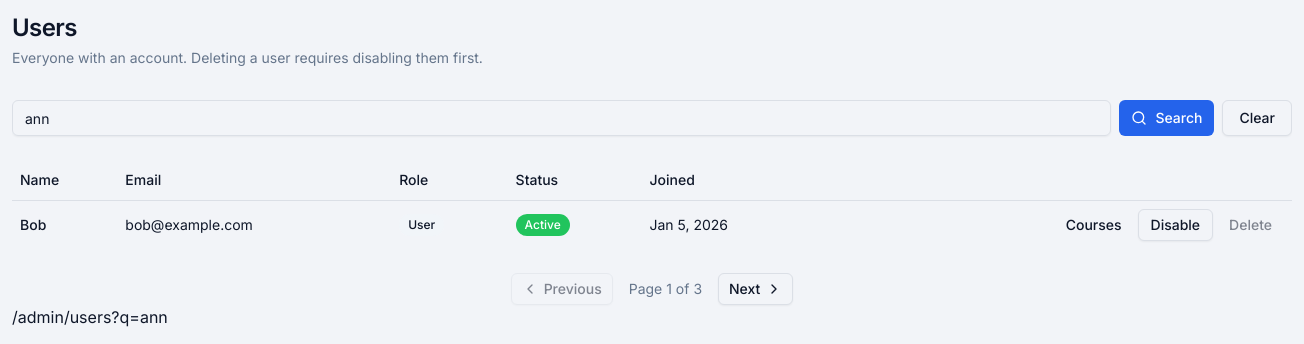
Test case: search › keeps the search when paging
This screenshot has width=1304, height=344.
Step 1. Click the button "Next" → (756, 288), box [718,272,793,304]
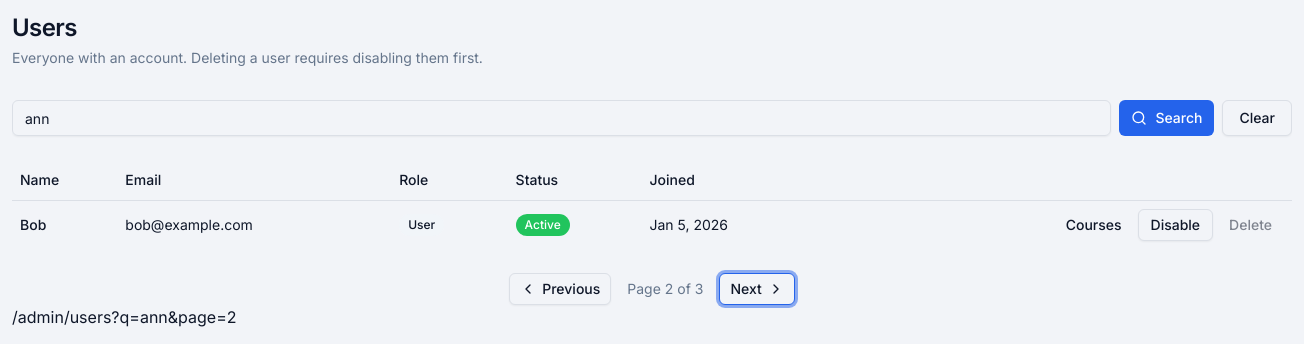
Result: the text with test id "location" reads "/admin/users?q=ann&page=2" at [12,306,236,326]
